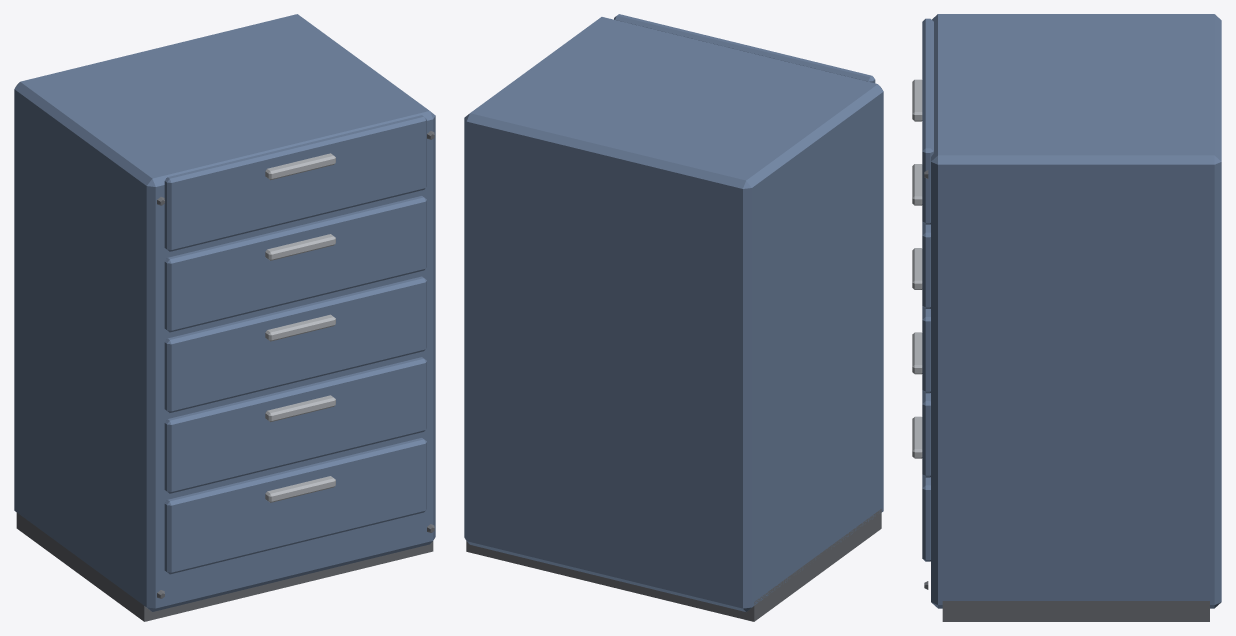
The model's file is Garage_Cabinet.glb.
3 renders of one model, left to right at view 1: azimuth 30°, elevation 25°; view 2: azimuth 150°, elevation 25°; view 3: azimuth 270°, elevation 25°, orthographic. The views are drawn at different scales.
Visible parts, largest first — view 1: Garage_Cabinet; view 2: Garage_Cabinet; view 3: Garage_Cabinet.
Part boxes in pixels (x1,y1,x2,y2): Garage_Cabinet: (14, 14, 435, 621); Garage_Cabinet: (464, 14, 883, 621); Garage_Cabinet: (912, 14, 1221, 621).
Bounding box in the file's own units: 0.6 × 0.8825 × 0.532.
